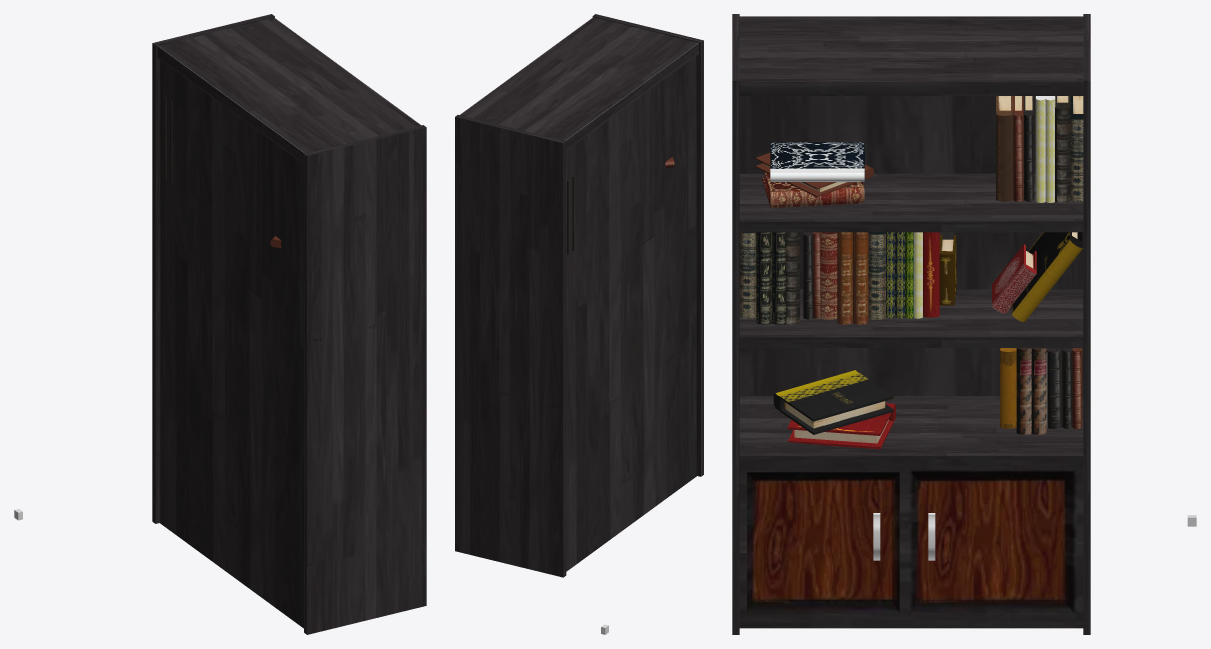
The model's file is furniture_bookcase.glb.
The picture shows the model from 3 angles, left to right: view 1: azimuth 30°, elevation 25°; view 2: azimuth 150°, elevation 25°; view 3: azimuth 270°, elevation 25°; orthographic projection. The views are drawn at different scales.
Visible parts, largest first — view 1: pCube3_back_wall_0, pCube7_wall_one_0, pCube5_top_wall_0; view 2: pCube3_back_wall_0, pCube7_wall_one_0, pCube5_top_wall_0, pCube69_s4l_0; view 3: pCube4_book_self_box_0, pCube3_back_wall_0, pCube13_first_self_0, pCube5_top_wall_0, pCube7_wall_one_0, pCube31_one_of_three_0, pCube16_another_0, pCube25_second_bottom_first_self_0, pCube53_top_book_0, pCube41_book_one_red_0, pCube26_first_self_book_0, pCube75_another_2_0 (+13 smaller).
Part boxes in pixels (x1,y1,x2,y2): pCube3_back_wall_0: [160, 60, 303, 628]; pCube7_wall_one_0: [152, 14, 426, 634]; pCube5_top_wall_0: [157, 17, 421, 164]; pCube3_back_wall_0: [566, 56, 696, 571]; pCube7_wall_one_0: [455, 14, 703, 577]; pCube5_top_wall_0: [460, 17, 698, 150]; pCube69_s4l_0: [567, 176, 574, 254]; pCube4_book_self_box_0: [739, 396, 1083, 628]; pCube3_back_wall_0: [739, 96, 1083, 395]; pCube13_first_self_0: [739, 173, 1083, 347]; pCube5_top_wall_0: [739, 16, 1083, 95]; pCube7_wall_one_0: [732, 14, 1090, 634]; pCube31_one_of_three_0: [773, 370, 893, 434]; pCube16_another_0: [740, 96, 1083, 319]; pCube25_second_bottom_first_self_0: [803, 96, 1072, 428]; pCube53_top_book_0: [770, 142, 864, 181]; pCube41_book_one_red_0: [787, 232, 939, 449]; pCube26_first_self_book_0: [755, 96, 1082, 428]; pCube75_another_2_0: [762, 171, 864, 319].
Bounding box in the file's own units: 72.69 × 160 × 119.
Materials: 26 (24 with a texture image).
